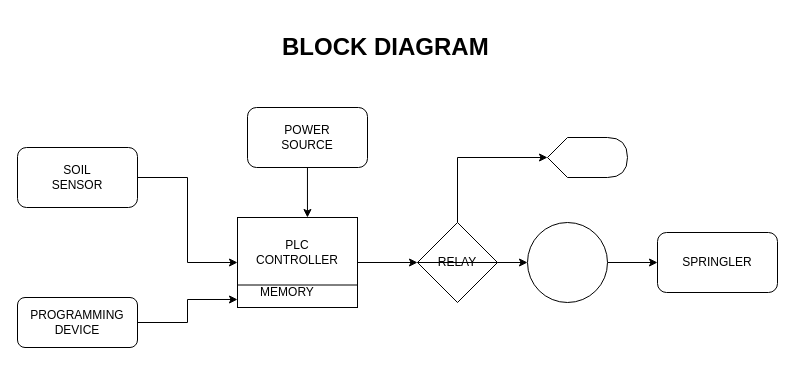
This 795x365 diagram has some shape labels left out. Each missing label, with the box of its shape:
INDICATOR: (546, 136, 628, 178)
PUMP: (526, 222, 608, 302)
